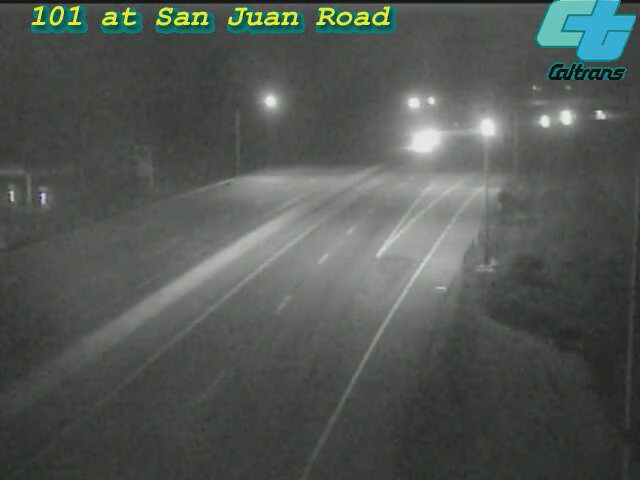vehicle: (578, 90, 628, 140), (399, 117, 449, 167), (461, 103, 511, 153), (519, 96, 569, 146), (539, 93, 589, 143)
